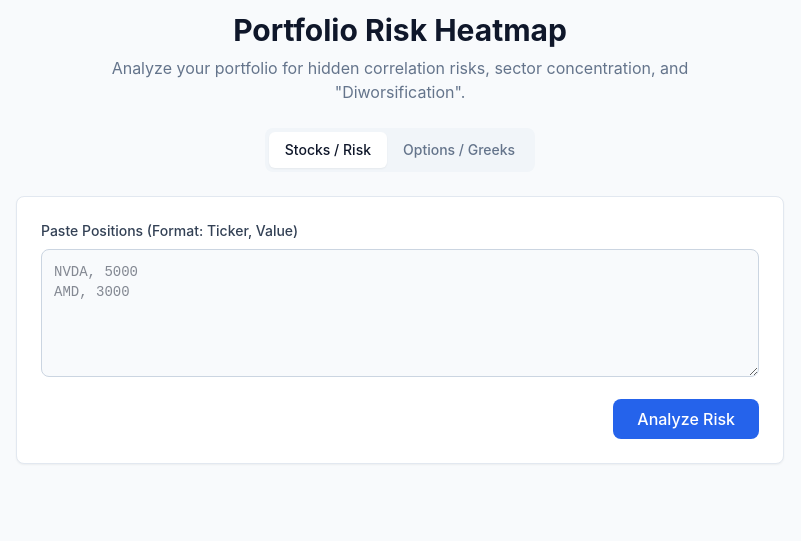
it: PortfolioRisk Component › validates empty input
Click the button "Analyze Risk". click: coordinates (686, 419)
box: [613,399,759,439]
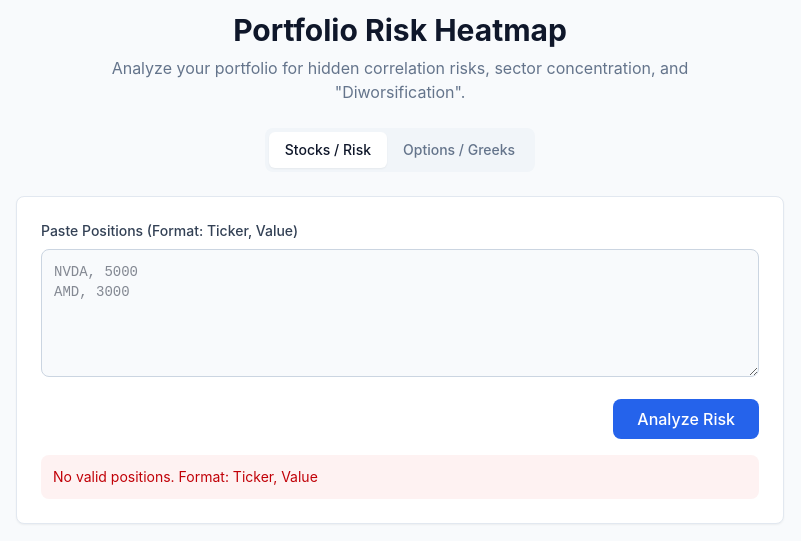
Expected: the text "No valid positions. Format: Ticker, Value" is shown, [41,455,759,499]
